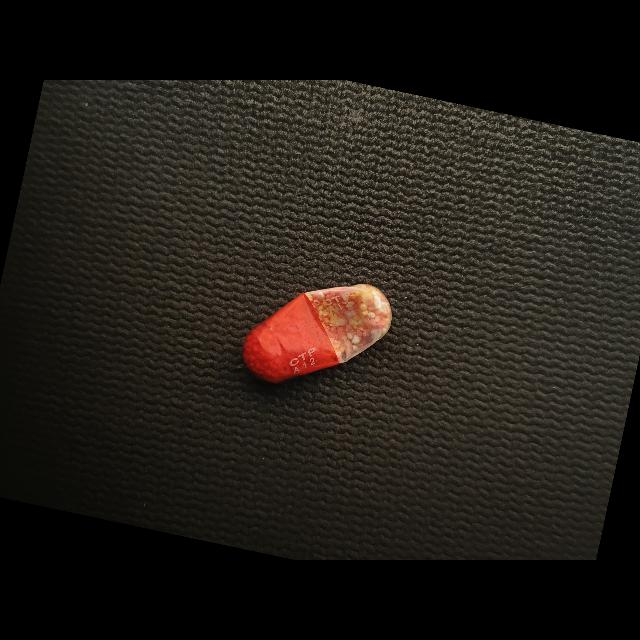Defective Capsule: (243, 284, 392, 383)
